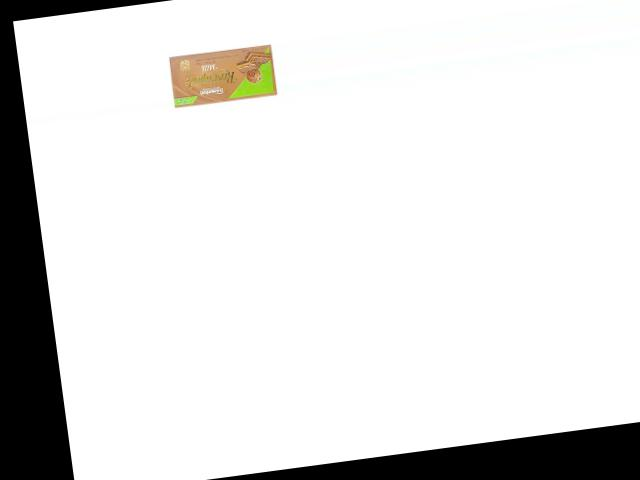chocolate: (163, 38, 279, 111)
